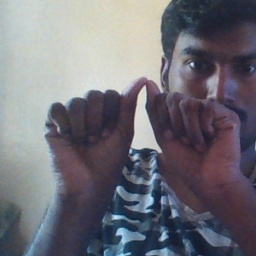A: (45, 75, 244, 188)
